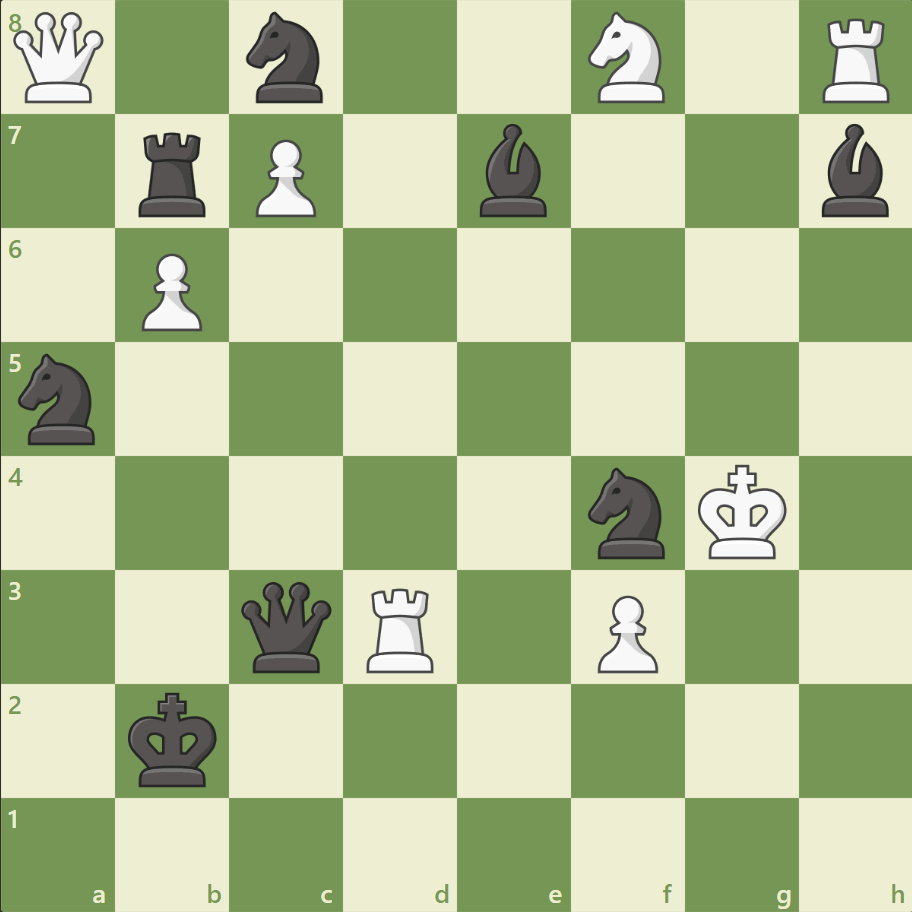K: (692, 458, 792, 566)
N: (579, 7, 676, 110)
P: (247, 132, 322, 223), (133, 246, 208, 337), (588, 586, 662, 677)
Q: (10, 9, 109, 108)
R: (814, 12, 897, 109), (360, 579, 442, 676)
b: (471, 120, 555, 222), (812, 120, 896, 222)
k: (124, 685, 224, 793)
n: (238, 7, 335, 110), (579, 461, 676, 564), (11, 348, 108, 450)
q: (237, 576, 336, 676)
r: (133, 125, 215, 222)
